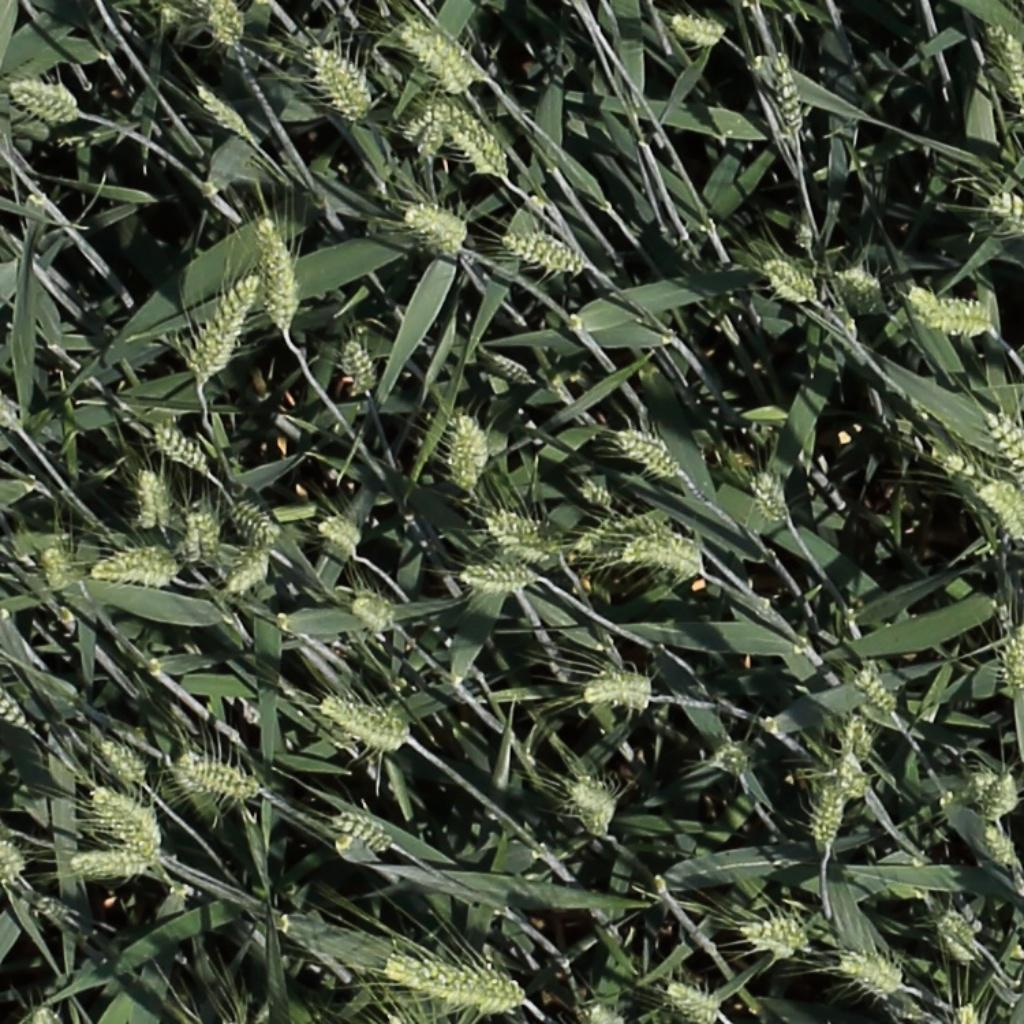0-0: (387, 950, 531, 1012), (191, 270, 263, 379), (430, 406, 507, 489), (580, 511, 675, 572), (320, 689, 410, 752), (477, 502, 562, 566), (399, 99, 481, 164), (402, 20, 475, 92), (309, 40, 371, 124), (906, 288, 998, 344), (256, 211, 297, 334), (90, 790, 161, 861), (172, 748, 263, 797), (932, 433, 993, 505), (615, 535, 705, 581), (191, 76, 253, 141), (446, 110, 506, 177), (739, 911, 816, 962), (88, 543, 176, 587), (799, 776, 845, 853), (585, 662, 652, 714), (746, 456, 797, 524), (768, 55, 809, 139), (404, 200, 468, 252), (502, 232, 587, 271), (150, 423, 211, 475), (618, 431, 682, 479), (330, 806, 395, 853), (987, 396, 1024, 478), (991, 614, 1024, 700), (566, 772, 614, 831), (6, 79, 77, 118), (96, 737, 148, 790), (854, 663, 903, 719), (183, 501, 221, 573), (984, 478, 1024, 546), (977, 820, 1022, 879), (462, 560, 540, 594), (839, 266, 890, 318), (764, 258, 821, 301), (341, 331, 376, 401), (71, 846, 152, 876), (136, 462, 169, 535), (229, 499, 279, 547), (841, 954, 903, 992), (936, 913, 981, 965), (666, 981, 723, 1021), (981, 768, 1019, 827), (838, 742, 872, 806), (0, 381, 35, 443), (998, 28, 1024, 102), (0, 673, 31, 734), (206, 1, 245, 49), (985, 178, 1024, 226), (481, 349, 535, 383), (39, 539, 70, 598), (671, 15, 729, 43), (0, 836, 30, 888), (318, 518, 364, 550), (350, 598, 395, 630), (578, 476, 618, 512), (846, 711, 871, 768), (953, 998, 981, 1024)
